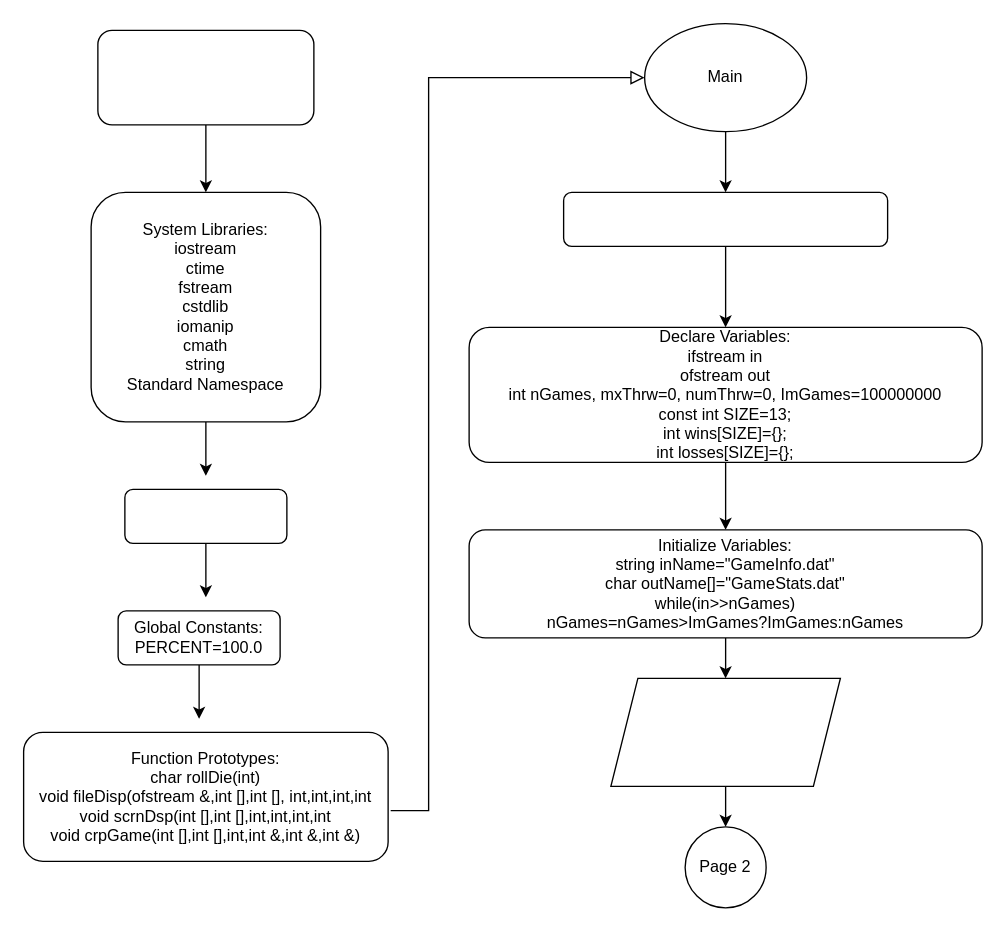
The diagram is 1006 pixels wide and 932 high, and some of its shapes have lost their labels. The centre of each missing label's shape, as x and y in pixels:
"Author: Created on: Purpose: Craps Game" goes at (x=205, y=77).
"in.open(inName.c_str()) out.open(outName)" goes at (x=725, y=731).
"Random Number Seed: srand(static_cast<unsigned int>(time(0)))" goes at (x=725, y=218).
"User Libraries: n/a" goes at (x=205, y=515).
